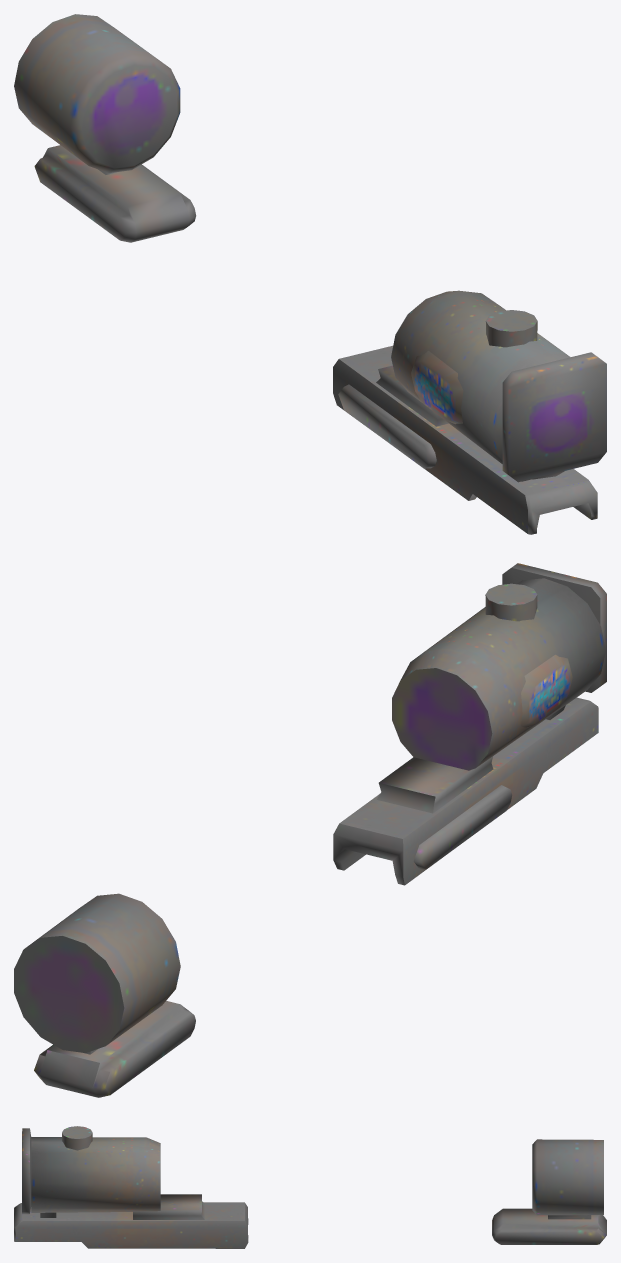
Rendered from sight3.obj.
The picture shows the model from 3 angles, top to bottom: view 1: azimuth 30°, elevation 25°; view 2: azimuth 150°, elevation 25°; view 3: azimuth 270°, elevation 25°; orthographic projection. The views are drawn at different scales.
Visible parts, largest first — view 1: sight3; view 2: sight3; view 3: sight3.
Boxes of the visible parts, x1,y1,x2,y2 form: sight3: (14,14,606,534); sight3: (14,563,606,1097); sight3: (14,1126,606,1248).
Size of the model in its own units: 5.59 by 8.56 by 43.18.
